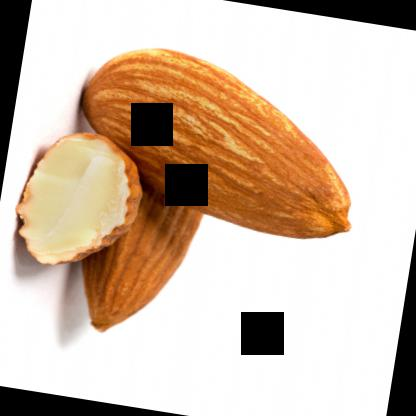almond: (55, 35, 372, 244), (68, 176, 206, 342), (5, 124, 146, 277)
